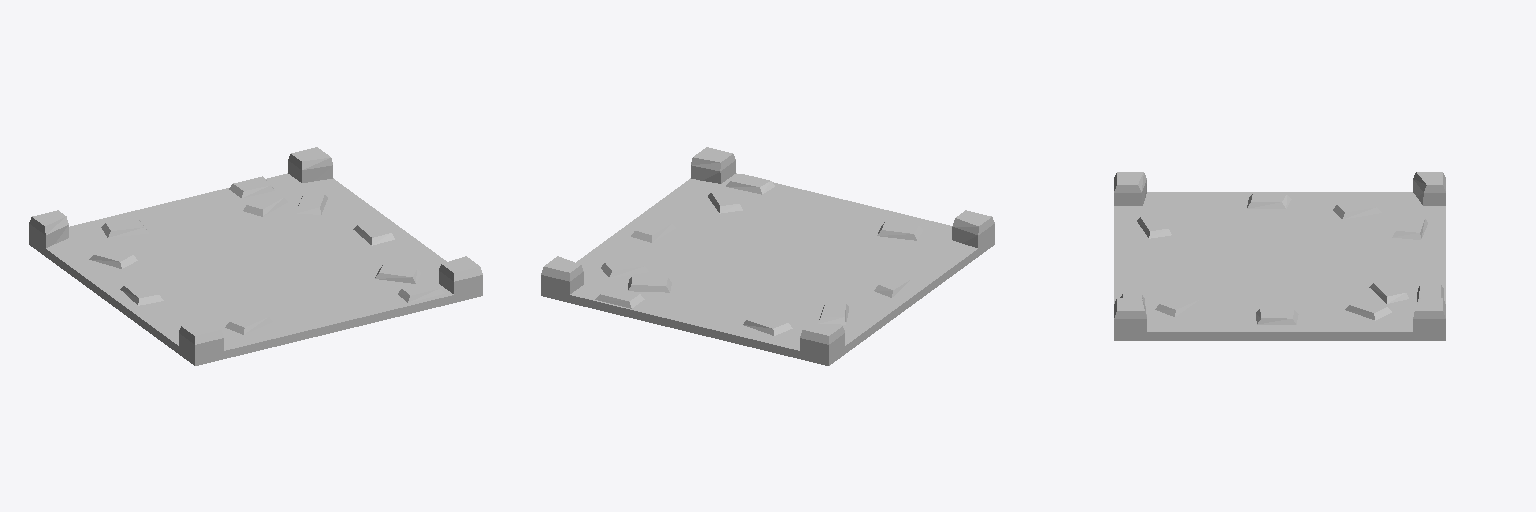
Rendered from SM_Env_Path_4Way_01_43.obj.
3 views of the same model, side by side, from view 1: azimuth 30°, elevation 25°; view 2: azimuth 150°, elevation 25°; view 3: azimuth 270°, elevation 25° (orthographic).
Visible parts, largest first — view 1: SM_Env_Path_4Way_01; view 2: SM_Env_Path_4Way_01; view 3: SM_Env_Path_4Way_01.
Part boxes in pixels (x1,y1,x2,y2): SM_Env_Path_4Way_01: (29, 147, 482, 365); SM_Env_Path_4Way_01: (541, 147, 994, 365); SM_Env_Path_4Way_01: (1114, 172, 1445, 340).
Size of the model in its own units: 2.5 by 0.2397 by 2.5.